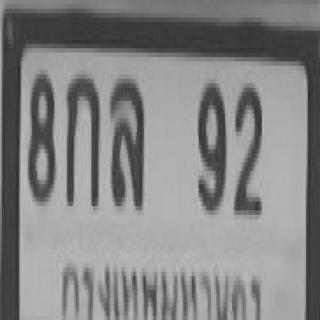A01: (65, 68, 99, 204)
A36: (109, 72, 142, 204)
N02: (232, 79, 260, 210)
N08: (26, 70, 55, 197)
N09: (197, 77, 225, 208)
P04: (59, 242, 265, 320)
